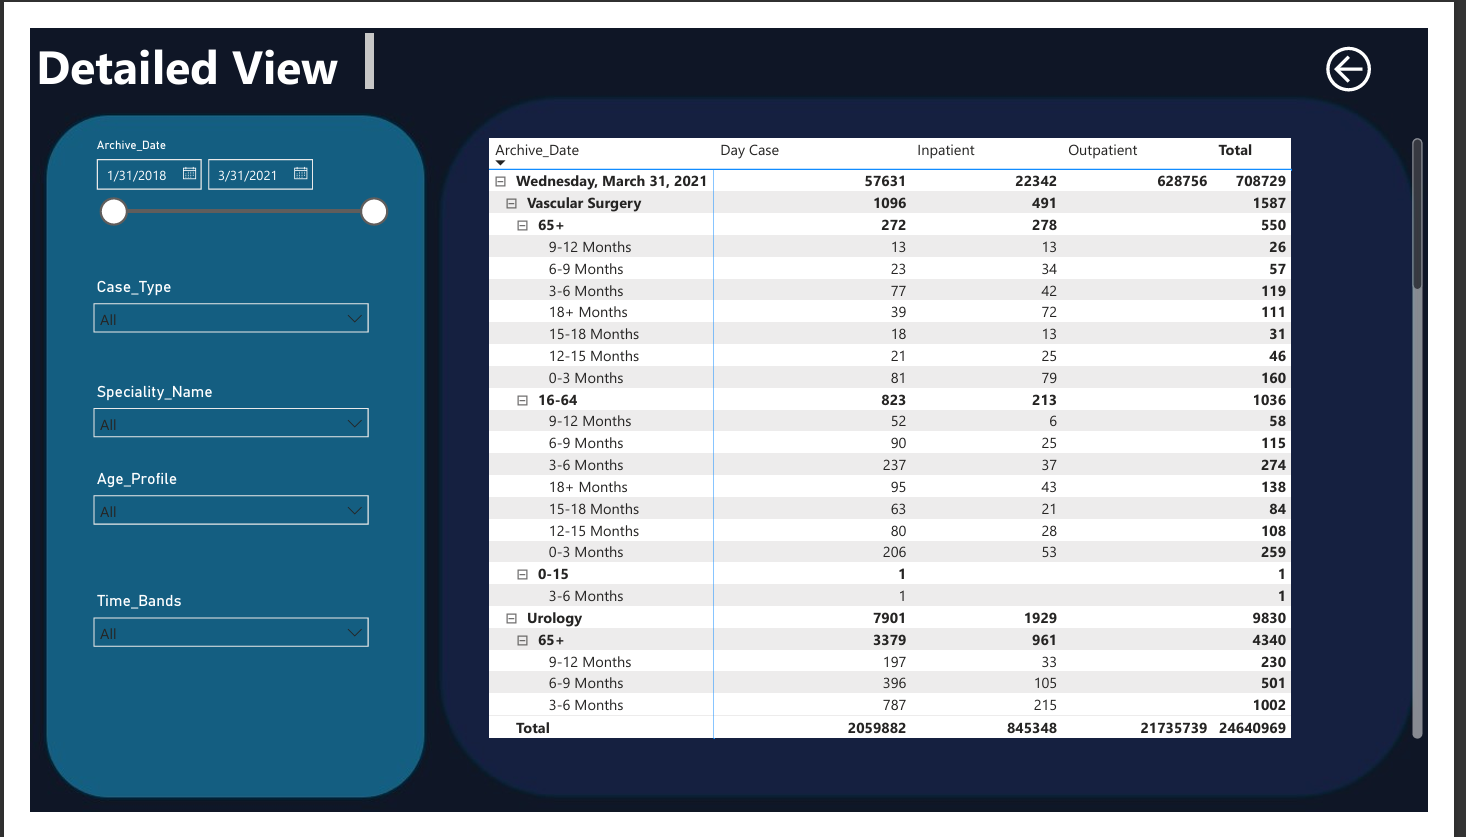

The dashboard page shown, as its layout file describes it:
{"tool":"powerbi","page":{"name":"Detail","canvas":[1280,720],"ordinal":1},"visuals":[{"type":"textbox","box":[0,0,320,64],"z":0},{"type":"slicer","fields":{"Values":["All_data.Archive_Date"]},"box":[48,96,288,128],"z":1000},{"type":"slicer","fields":{"Values":["All_data.Case_Type"]},"box":[48,224,272,80],"z":2000},{"type":"slicer","fields":{"Values":["All_data.Speciality_Name"]},"box":[48,320,272,80],"z":3000},{"type":"slicer","fields":{"Values":["All_data.Age_Profile"]},"box":[48,400,272,112],"z":4000},{"type":"slicer","fields":{"Values":["All_data.Time_Bands"]},"box":[48,512,272,112],"z":5000},{"type":"pivotTable","fields":{"Rows":["All_data.Archive_Date","All_data.Specialty_Name","All_data.Age_Profile","All_data.Time_Bands"],"Columns":["All_data.Case_Type"],"Values":["Sum(All_data.Total)"]},"box":[416,96,864,560],"z":6000},{"type":"actionButton","box":[1156.8,11,100.2,53.5],"z":7000}]}

Visuals, with their boxes in screenshot pixels (x1, y1, x2, y2), scaled from the page's 1280x720 canvas onto the 1466x837 screenshot:
textbox: bbox(0, 0, 366, 74)
slicer - All_data.Archive_Date: bbox(55, 112, 385, 260)
slicer - All_data.Case_Type: bbox(55, 260, 366, 353)
slicer - All_data.Speciality_Name: bbox(55, 372, 366, 465)
slicer - All_data.Age_Profile: bbox(55, 465, 366, 595)
slicer - All_data.Time_Bands: bbox(55, 595, 366, 725)
pivotTable - All_data.Archive_Date x All_data.Specialty_Name: bbox(476, 112, 1465, 763)
actionButton: bbox(1325, 13, 1440, 75)
